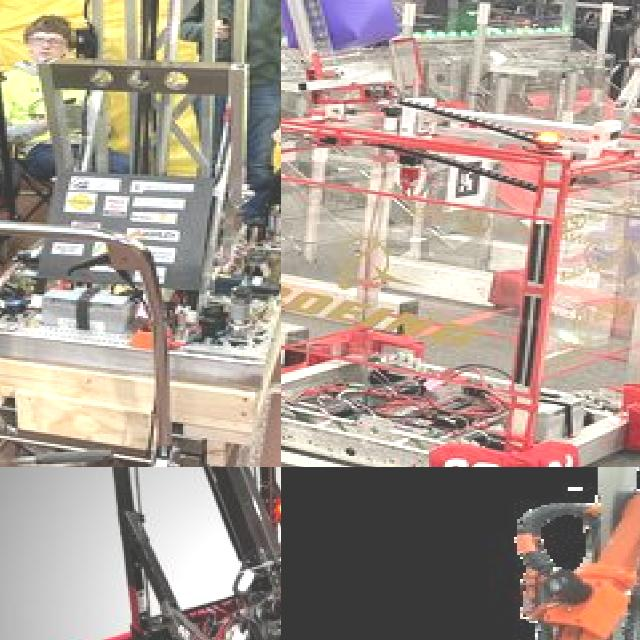FRC-Robots: (281, 0, 640, 467), (0, 0, 281, 460), (281, 467, 640, 640), (35, 467, 281, 640)
